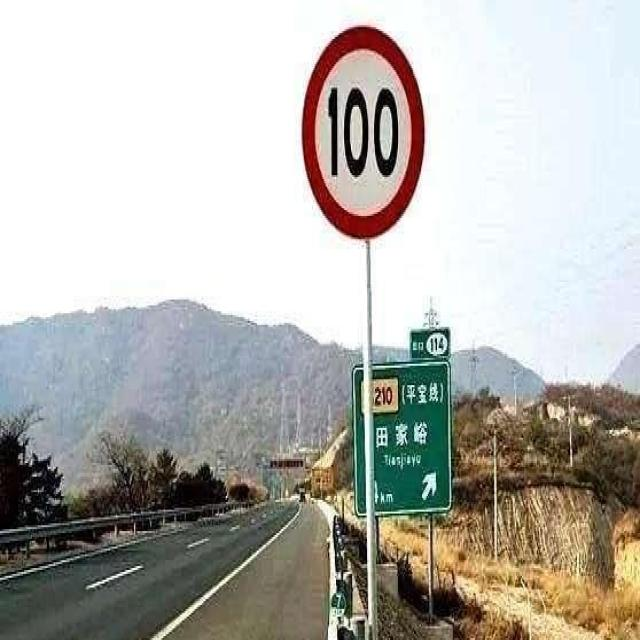speed limit 100: (300, 23, 426, 241)
